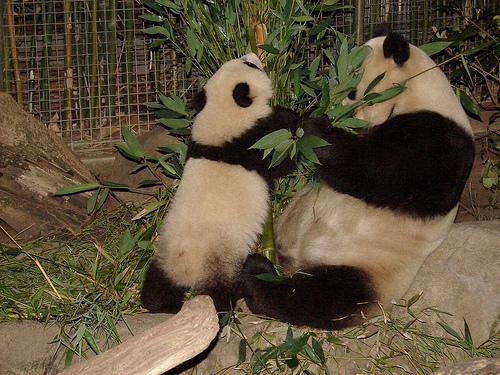panda: (141, 34, 473, 328)
